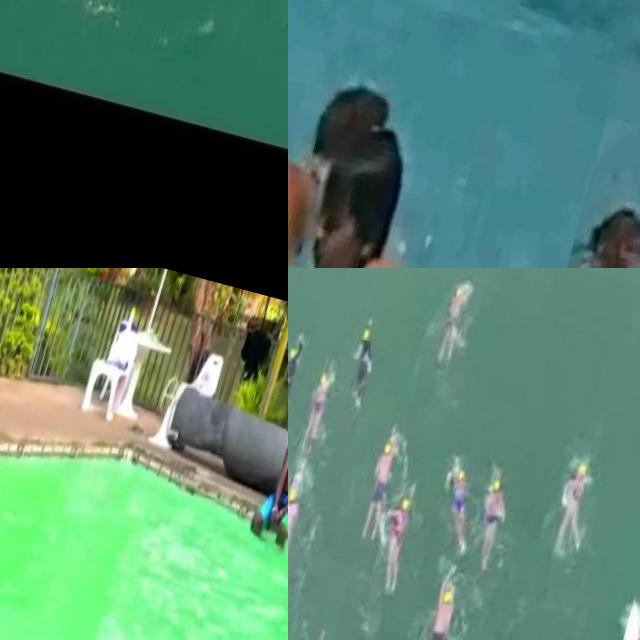drowning: (553, 116, 640, 268)
out of water: (259, 392, 288, 551)
swimming: (288, 32, 484, 268), (352, 424, 411, 550), (370, 481, 429, 606), (545, 442, 604, 567), (466, 450, 523, 574), (428, 446, 488, 556), (404, 577, 463, 640), (288, 475, 313, 600)
